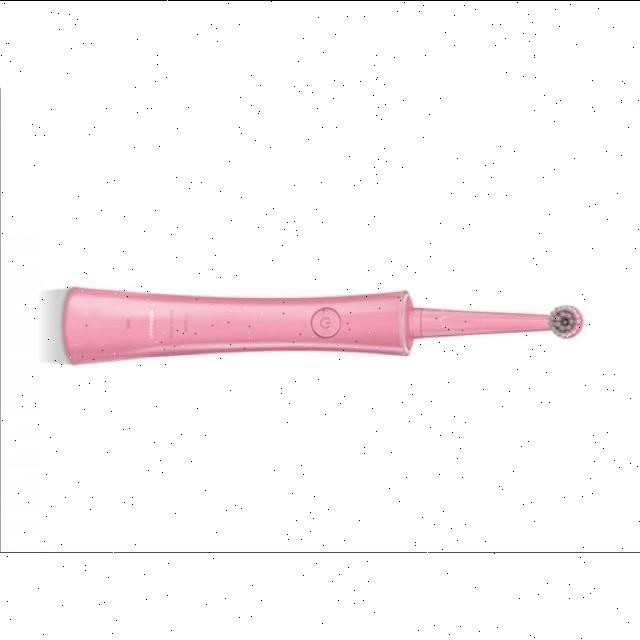toothbrush: (28, 278, 610, 392)
